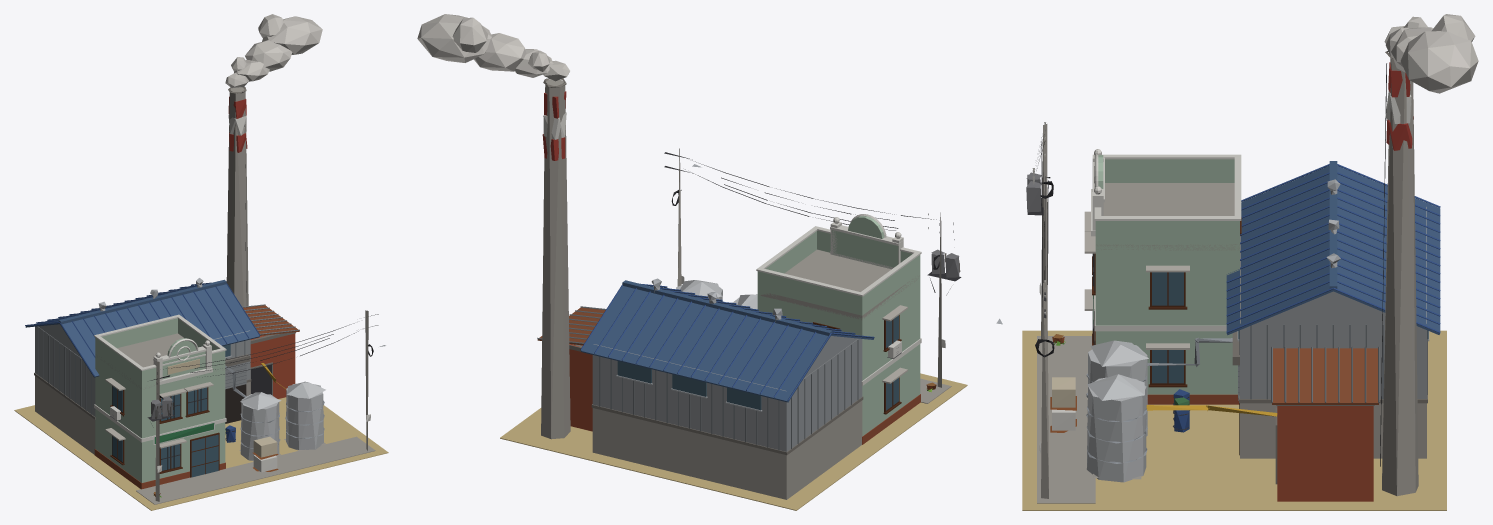
File: factory_3.glb
3 renders of one model, left to right at view 1: azimuth 30°, elevation 25°; view 2: azimuth 150°, elevation 25°; view 3: azimuth 270°, elevation 25°, orthographic. The views are drawn at different scales.
Visible parts, largest first — view 1: body, windows; view 2: body, windows; view 3: body, windows.
Boxes of the visible parts, box(x1,y1,x2,y2) form: body: box(14, 14, 388, 510); windows: box(112, 344, 246, 477); body: box(417, 14, 967, 510); windows: box(617, 315, 898, 410); body: box(996, 14, 1478, 510); windows: box(1094, 220, 1428, 455).
Size of the model in its own units: 20.26 by 21.32 by 18.06.
